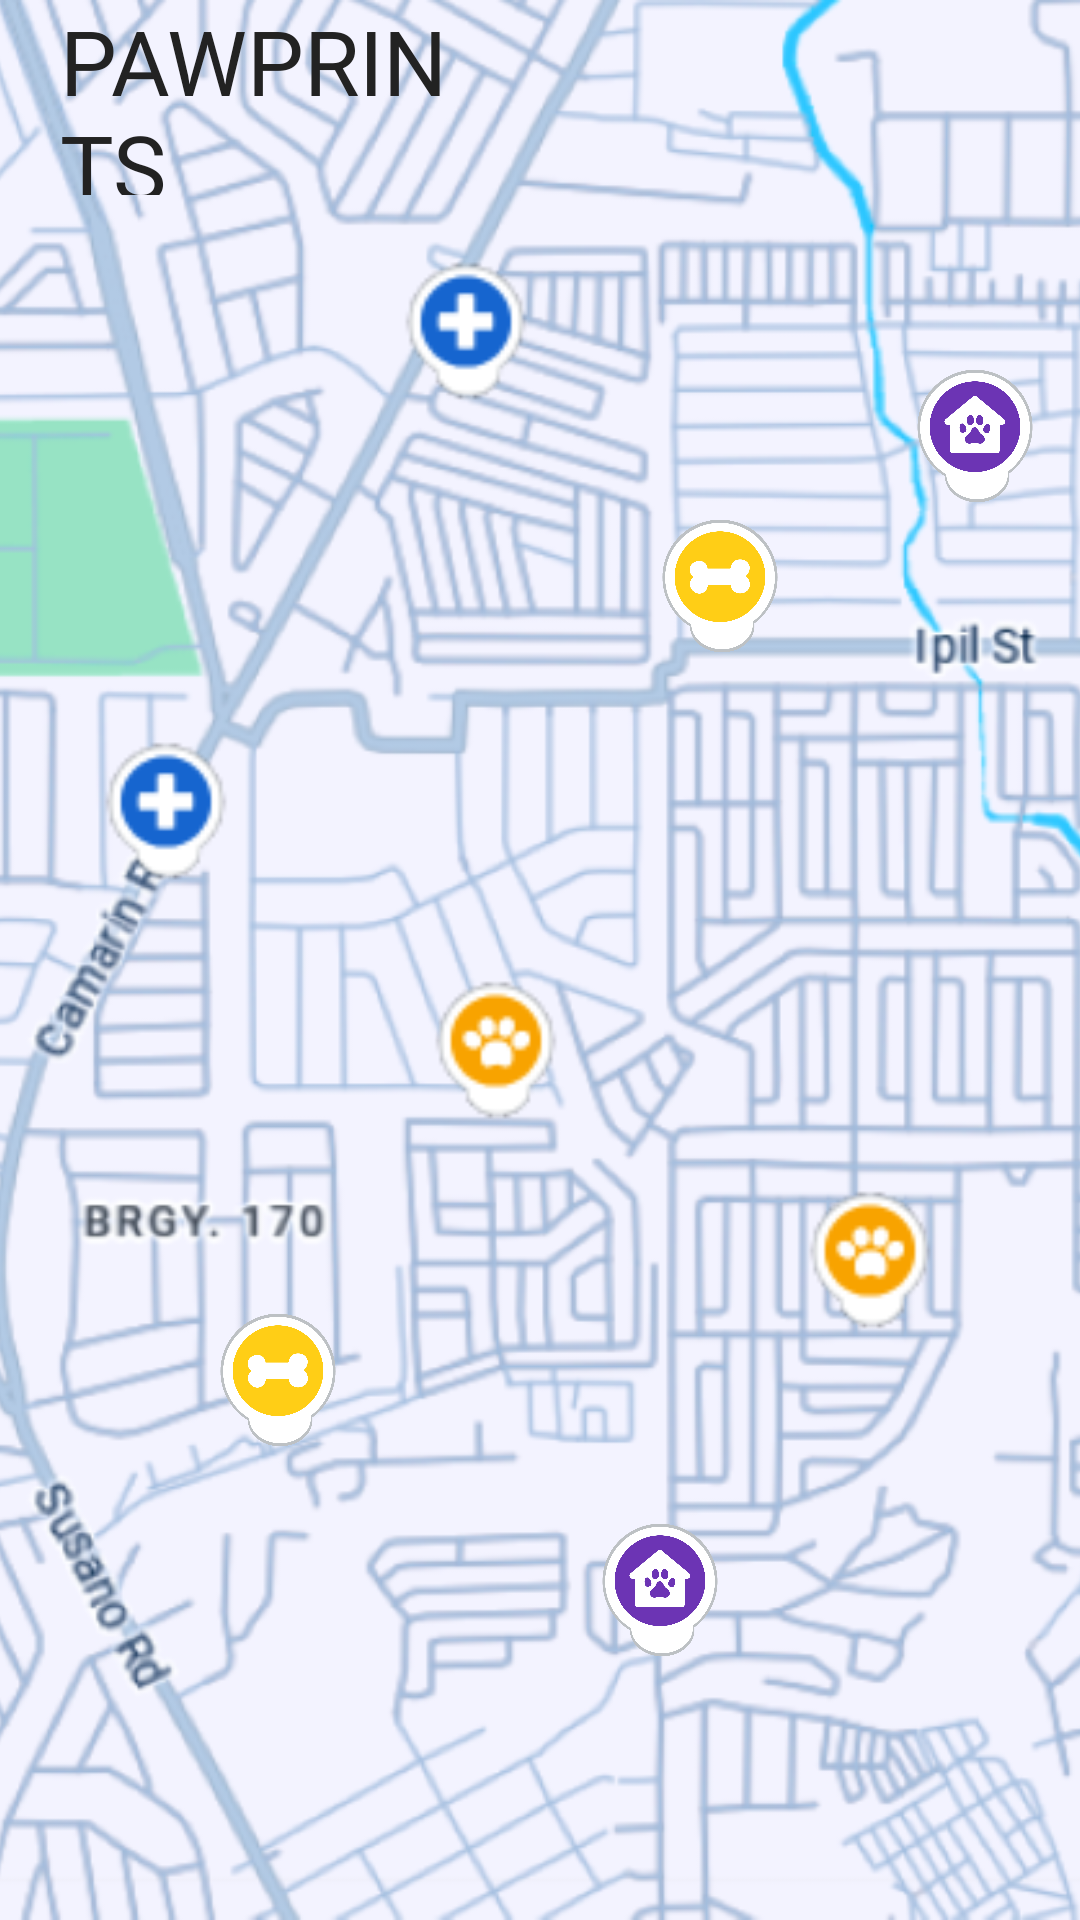

Where to tap for icons on this 1080px×1920px app screen, as [x,y]:
pin clinic: [466,321], [166,801]
